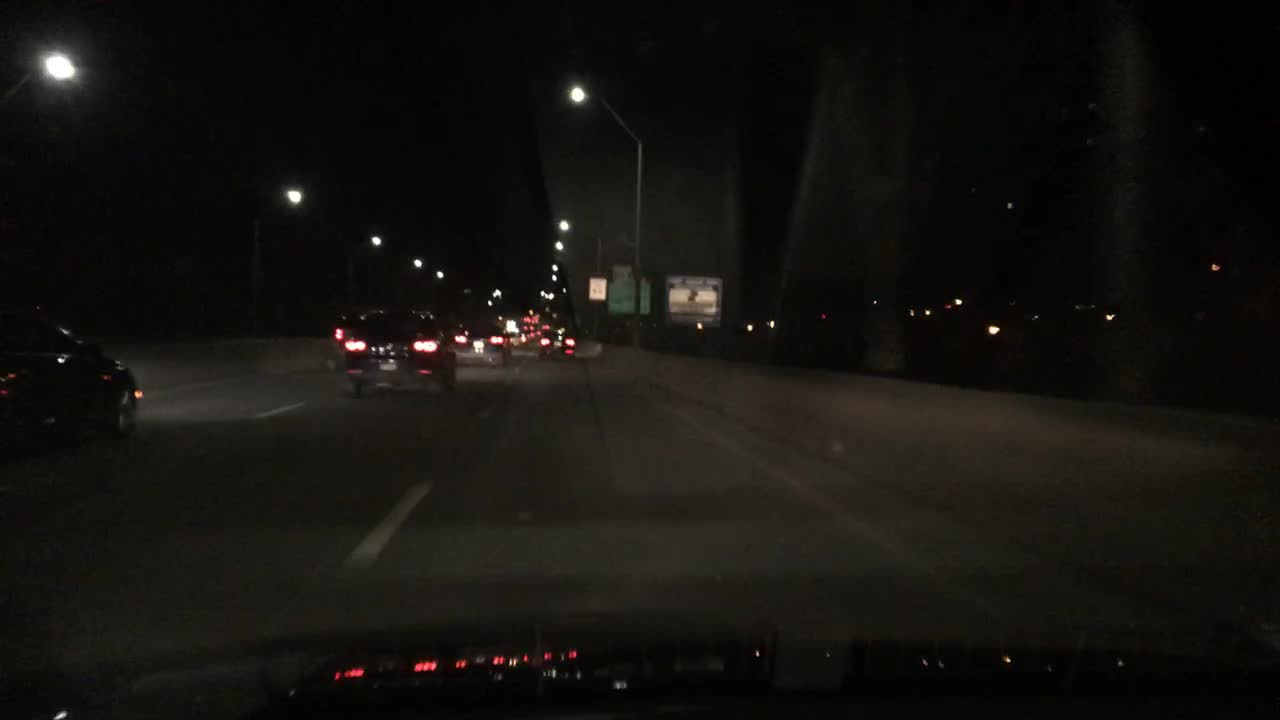car: (1, 294, 140, 455), (336, 304, 457, 399), (453, 320, 511, 369), (534, 327, 579, 362), (328, 310, 355, 366), (499, 317, 527, 350)
traffic sign: (667, 275, 723, 325), (604, 262, 637, 315), (637, 275, 649, 313), (588, 282, 605, 299)
